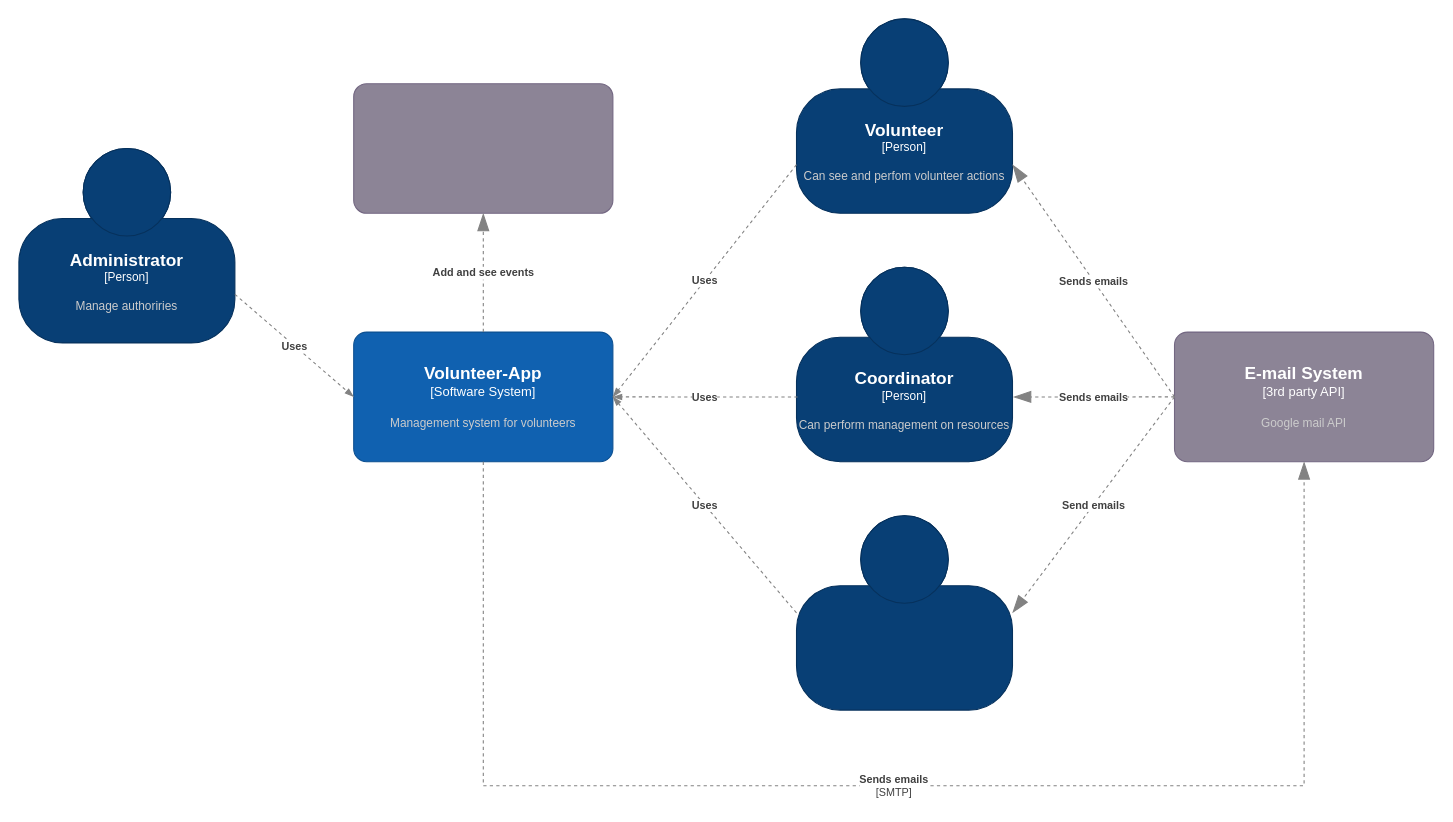
Image size: 1453x822. Some labels were removed from this diagram. The box of each missing label's shape, as (x1, y1, x2, y2) in pixels:
Calendar System [3rd party API] Google calendar API: (353, 83, 613, 213)
Generic user [Person] Can create tickets for volunteer request: (795, 515, 1013, 710)
